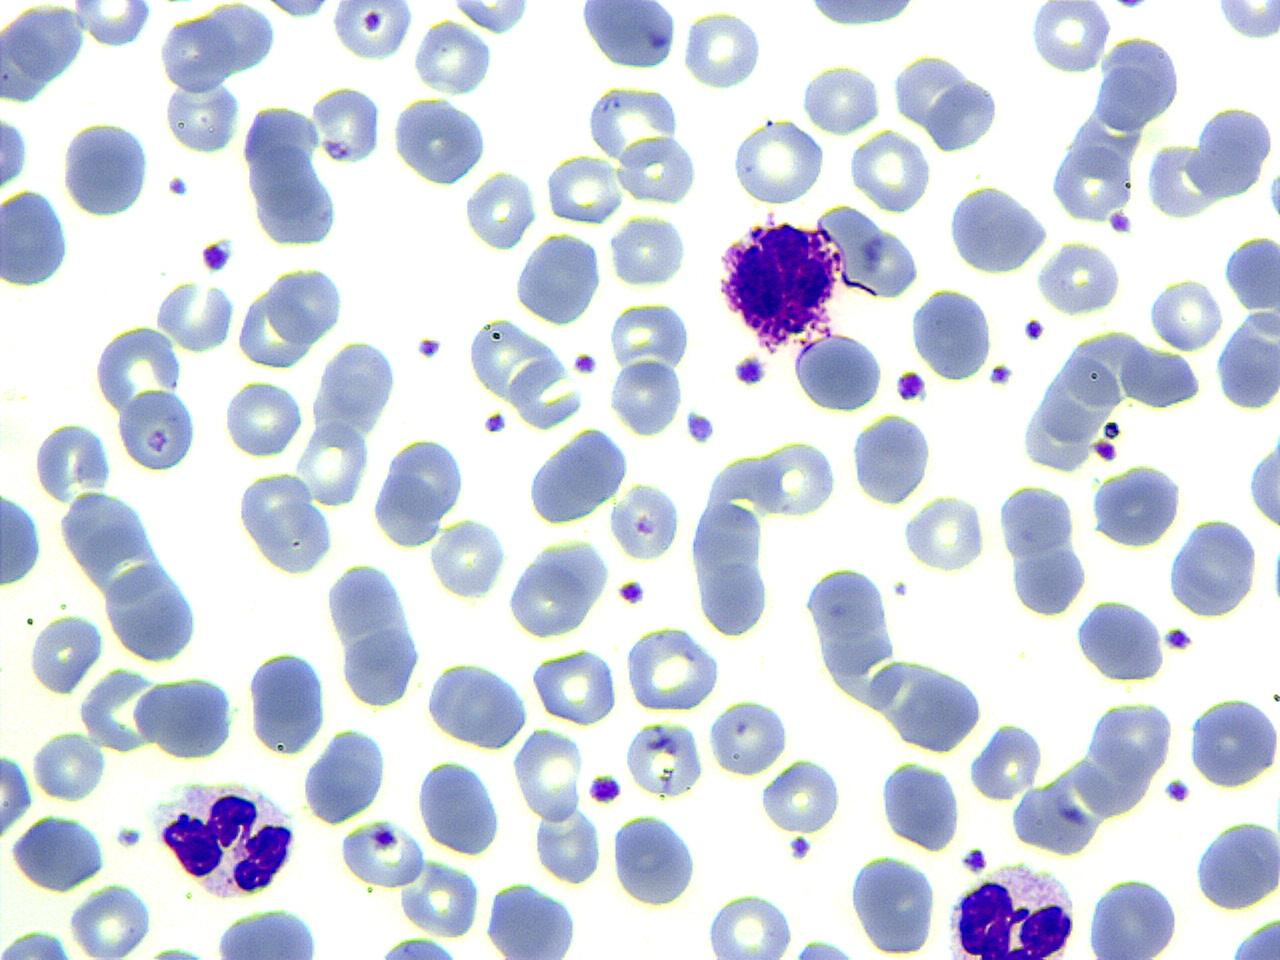Platelets: (462, 170, 538, 253), (310, 84, 382, 166), (330, 0, 414, 63), (1212, 1, 1278, 42), (0, 113, 32, 193), (790, 938, 860, 960), (199, 237, 234, 274), (893, 368, 928, 404), (732, 354, 767, 388), (682, 410, 717, 446), (583, 774, 624, 804), (147, 942, 206, 960), (1160, 624, 1194, 654), (1268, 530, 1280, 614), (961, 844, 989, 874), (616, 578, 646, 606), (786, 833, 814, 862), (1162, 776, 1192, 804), (1108, 209, 1136, 237), (114, 824, 144, 850), (415, 336, 445, 361), (1266, 170, 1280, 224), (570, 351, 599, 376), (986, 361, 1014, 386), (1092, 440, 1120, 464), (1022, 317, 1045, 343), (484, 410, 509, 434), (1104, 0, 1148, 13), (166, 175, 190, 197), (1101, 418, 1121, 441)
RBC: (688, 502, 770, 640), (424, 659, 531, 752), (134, 672, 238, 764), (1166, 515, 1258, 620), (849, 852, 937, 956), (245, 648, 328, 758), (1185, 694, 1279, 790), (392, 93, 486, 188), (92, 322, 184, 416), (625, 624, 723, 714), (729, 118, 826, 206), (1050, 136, 1140, 227), (78, 662, 164, 755), (586, 80, 681, 164), (792, 329, 884, 415), (507, 548, 593, 640), (115, 386, 198, 474), (848, 127, 930, 214), (512, 724, 585, 822), (531, 646, 619, 726), (223, 375, 304, 460), (162, 71, 242, 157), (338, 816, 428, 890), (706, 698, 790, 777), (31, 419, 112, 502), (680, 8, 760, 92), (428, 516, 506, 602), (296, 418, 370, 508), (264, 264, 346, 345), (904, 493, 986, 574), (400, 856, 481, 937), (759, 756, 843, 834), (28, 610, 103, 697), (624, 718, 702, 800), (756, 438, 834, 520), (412, 18, 496, 95), (157, 12, 235, 94), (69, 882, 152, 958), (1036, 239, 1120, 315), (608, 357, 686, 437), (462, 168, 536, 252), (1026, 2, 1112, 75), (608, 479, 682, 562), (798, 61, 882, 134), (155, 278, 237, 353), (530, 802, 604, 884), (703, 891, 794, 958), (1148, 275, 1224, 354), (968, 720, 1040, 802), (609, 214, 688, 287), (616, 133, 696, 206), (309, 86, 381, 167), (544, 153, 624, 226), (1120, 342, 1202, 411), (31, 728, 107, 802), (609, 301, 688, 368), (330, 1, 413, 63), (1224, 232, 1278, 318), (72, 0, 153, 50), (0, 746, 34, 846), (450, 0, 531, 35)
WBC: (150, 777, 302, 901), (718, 211, 848, 352), (803, 564, 909, 713), (238, 105, 344, 249), (325, 560, 424, 706), (1022, 338, 1122, 480), (994, 480, 1090, 620), (944, 862, 1081, 960), (688, 495, 772, 639), (368, 432, 468, 552), (890, 51, 1003, 155), (154, 3, 278, 96), (526, 424, 632, 528), (237, 470, 339, 578), (1167, 514, 1263, 620), (102, 562, 201, 664), (946, 182, 1051, 277), (424, 659, 532, 752), (509, 541, 609, 638), (246, 646, 331, 758), (390, 93, 490, 188), (0, 0, 92, 103), (848, 852, 937, 956), (59, 119, 152, 219), (1186, 694, 1280, 792), (7, 809, 112, 895), (1185, 103, 1275, 204), (137, 670, 238, 758), (1093, 35, 1183, 133), (300, 726, 389, 826), (416, 757, 504, 858), (627, 622, 725, 712), (512, 229, 602, 327), (610, 810, 698, 909), (94, 321, 184, 415), (1075, 596, 1171, 686), (732, 121, 830, 207), (1192, 818, 1280, 914), (1085, 873, 1181, 960), (849, 409, 933, 506), (910, 286, 994, 384), (1089, 462, 1181, 550), (878, 758, 962, 854), (0, 184, 74, 291), (794, 329, 882, 416), (482, 880, 578, 960), (1214, 301, 1280, 416), (117, 384, 198, 475), (706, 697, 791, 779), (578, 2, 679, 72), (262, 266, 344, 350), (28, 610, 105, 697), (209, 905, 323, 960), (533, 800, 604, 886), (998, 485, 1076, 561), (0, 479, 46, 590), (1223, 232, 1280, 318), (796, 0, 926, 31), (1248, 421, 1280, 541), (368, 934, 473, 960), (1224, 914, 1280, 960), (0, 927, 79, 959), (0, 112, 30, 192)
